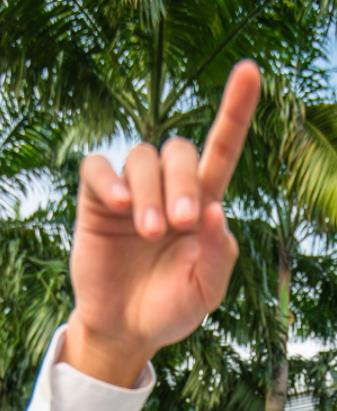up: (60, 57, 266, 344)
